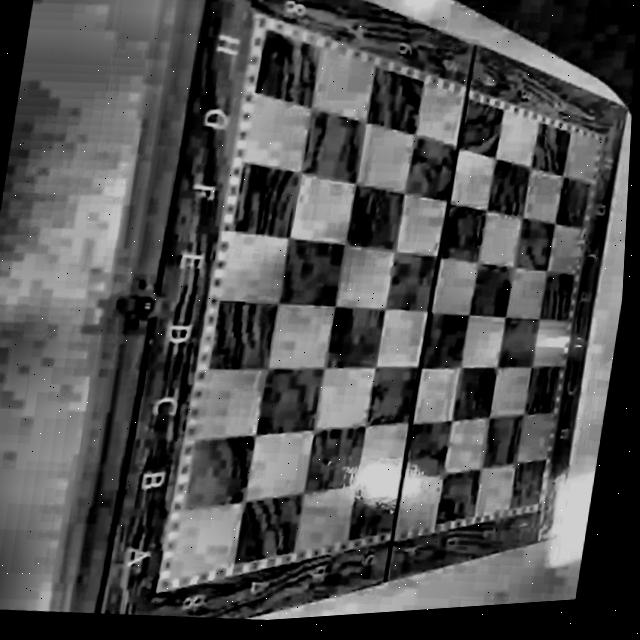chessboard: (155, 12, 602, 593)
p1: (532, 496, 544, 506)
p2: (167, 573, 184, 584)
p3: (255, 21, 274, 39)
p4: (588, 137, 600, 147)
